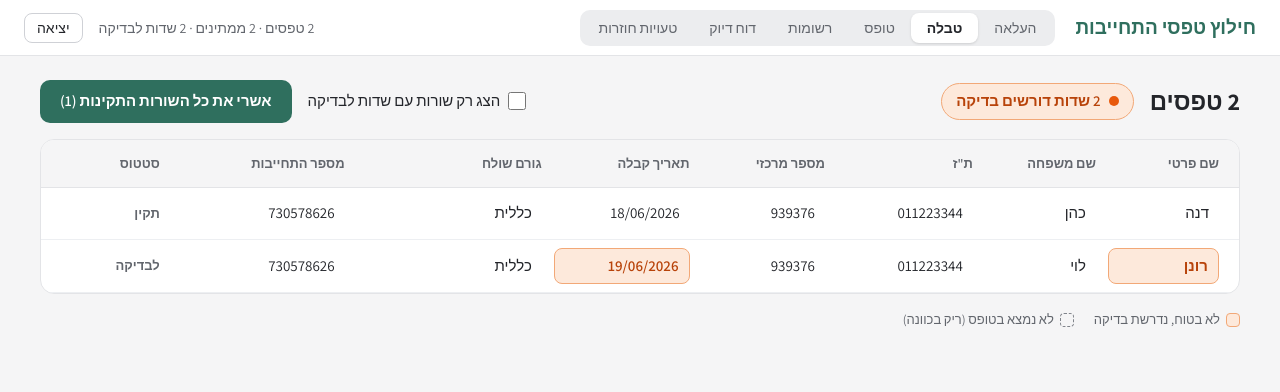
Test case: App › switches to the upload screen
expect the text "רונן" is shown: met, box top-left (1108, 248), bottom-right (1219, 284)
Click the tab "העלאה": (1015, 28) top-left (978, 12), bottom-right (1052, 42)
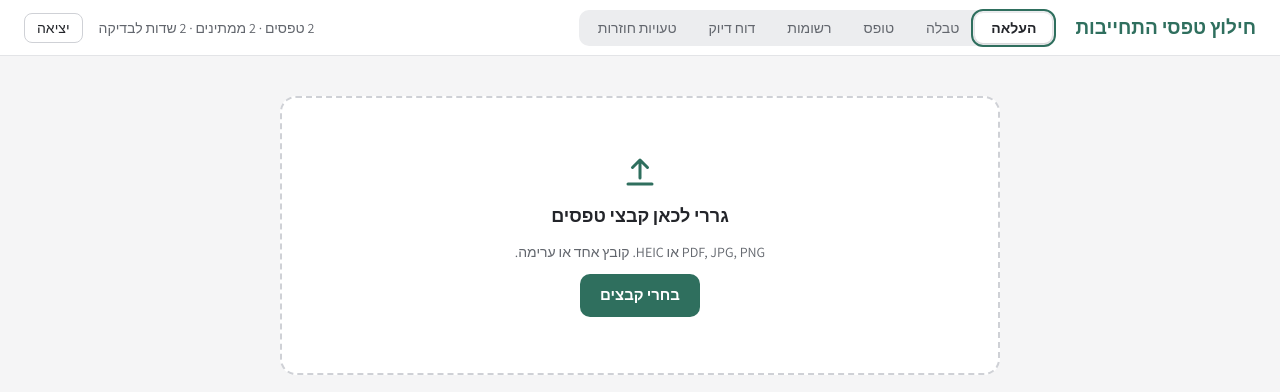
expect the text "גררי לכאן קבצי טפסים" is shown: met, box top-left (551, 202), bottom-right (729, 230)
